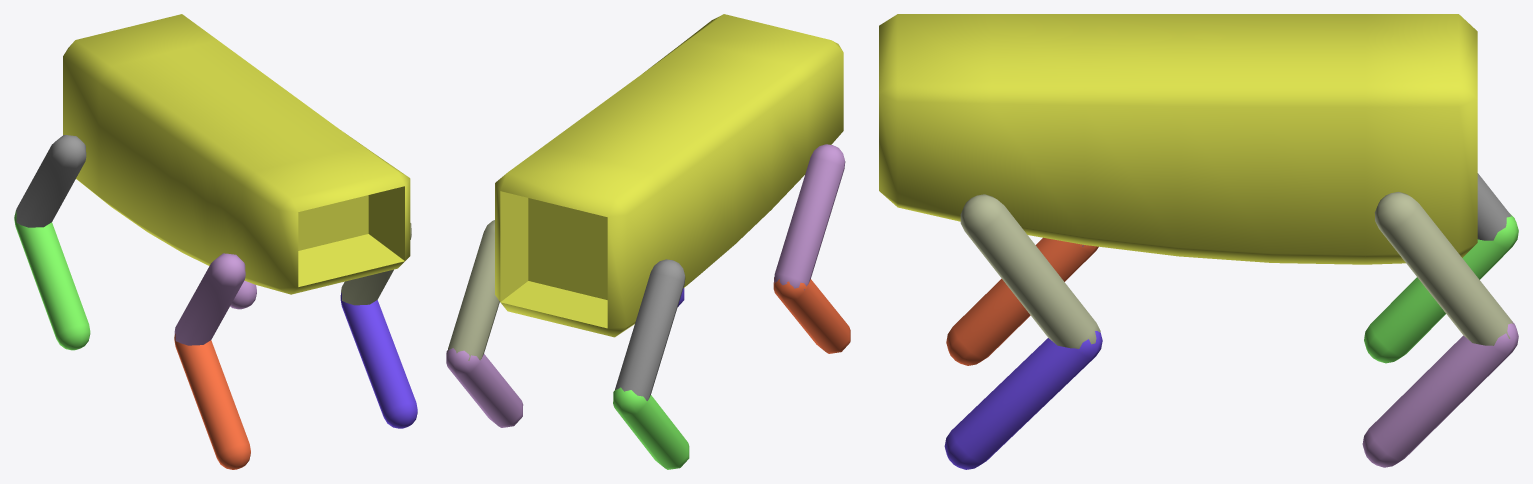
The model's file is spot.fbx.
3 renders of one model, left to right at view 1: azimuth 30°, elevation 25°; view 2: azimuth 150°, elevation 25°; view 3: azimuth 270°, elevation 25°, orthographic. The views are drawn at different scales.
Parts seen in each view (by area): view 1: body_convexhull, Capsule007, Capsule003, Capsule005, Capsule008, Capsule006, Capsule004, Capsule002; view 2: body_convexhull, Capsule006, Capsule008, Capsule001, Capsule005, Capsule002, Capsule007; view 3: body_convexhull, Capsule004, Capsule001, Capsule002, Capsule003, Capsule007, Capsule005, Capsule008.
Part boxes in pixels (left/top/right/bottom): body_convexhull: left=63, top=14, right=410, bottom=294; Capsule007: left=174, top=333, right=250, bottom=469; Capsule003: left=340, top=292, right=417, bottom=428; Capsule005: left=14, top=210, right=90, bottom=350; Capsule008: left=16, top=135, right=86, bottom=227; Capsule006: left=174, top=253, right=245, bottom=345; Capsule004: left=341, top=223, right=411, bottom=305; Capsule002: left=230, top=280, right=256, bottom=309; body_convexhull: left=495, top=14, right=843, bottom=337; Capsule006: left=774, top=144, right=845, bottom=290; Capsule008: left=615, top=259, right=685, bottom=400; Capsule001: left=447, top=220, right=499, bottom=360; Capsule005: left=613, top=387, right=689, bottom=469; Capsule002: left=446, top=348, right=523, bottom=427; Capsule007: left=773, top=277, right=850, bottom=353; body_convexhull: left=879, top=14, right=1477, bottom=264; Capsule004: left=960, top=194, right=1100, bottom=348; Capsule001: left=1374, top=191, right=1513, bottom=345; Capsule002: left=1362, top=321, right=1518, bottom=467; Capsule003: left=944, top=331, right=1102, bottom=469; Capsule007: left=946, top=237, right=1098, bottom=365; Capsule005: left=1364, top=213, right=1518, bottom=363; Capsule008: left=1477, top=173, right=1511, bottom=240.
Size of the model in its own units: 608 by 1303 by 829.
